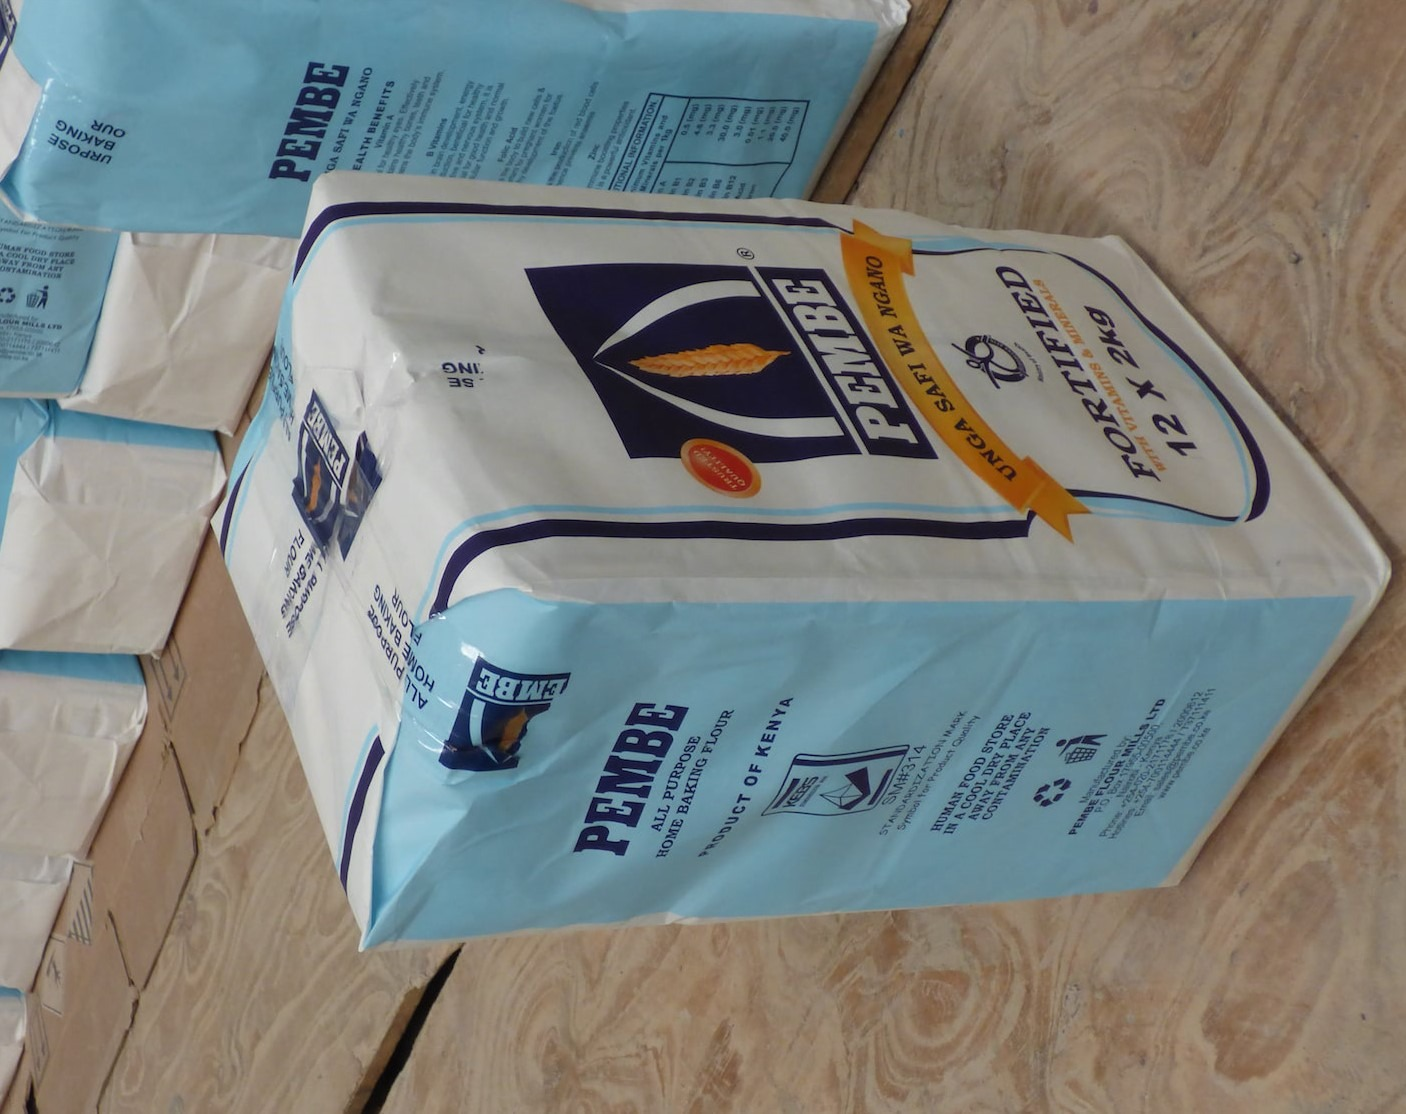wheat_flour_blue_label: (215, 173, 1385, 933)
